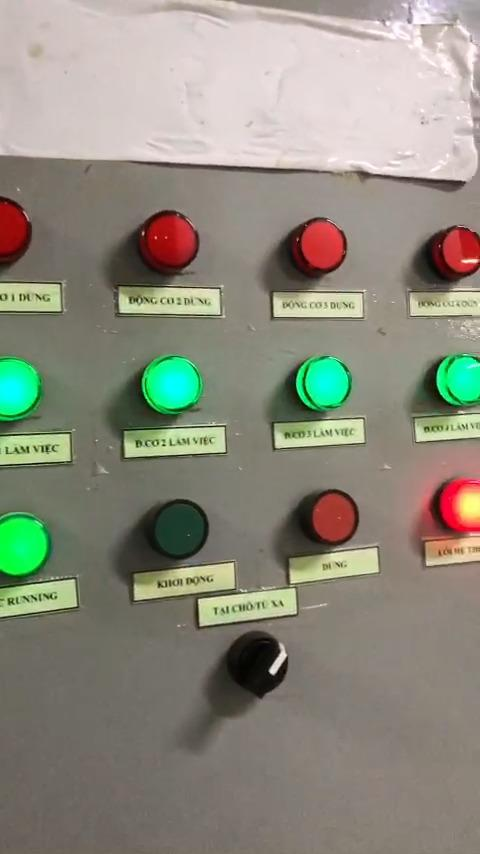led: (137, 205, 209, 271), (147, 495, 214, 562), (138, 348, 204, 415), (290, 351, 354, 416), (0, 511, 61, 579), (292, 214, 354, 280), (297, 487, 359, 548), (422, 220, 480, 283), (427, 474, 480, 541), (0, 355, 48, 424), (428, 350, 480, 411), (0, 200, 31, 271)
twist: (223, 631, 293, 699)
